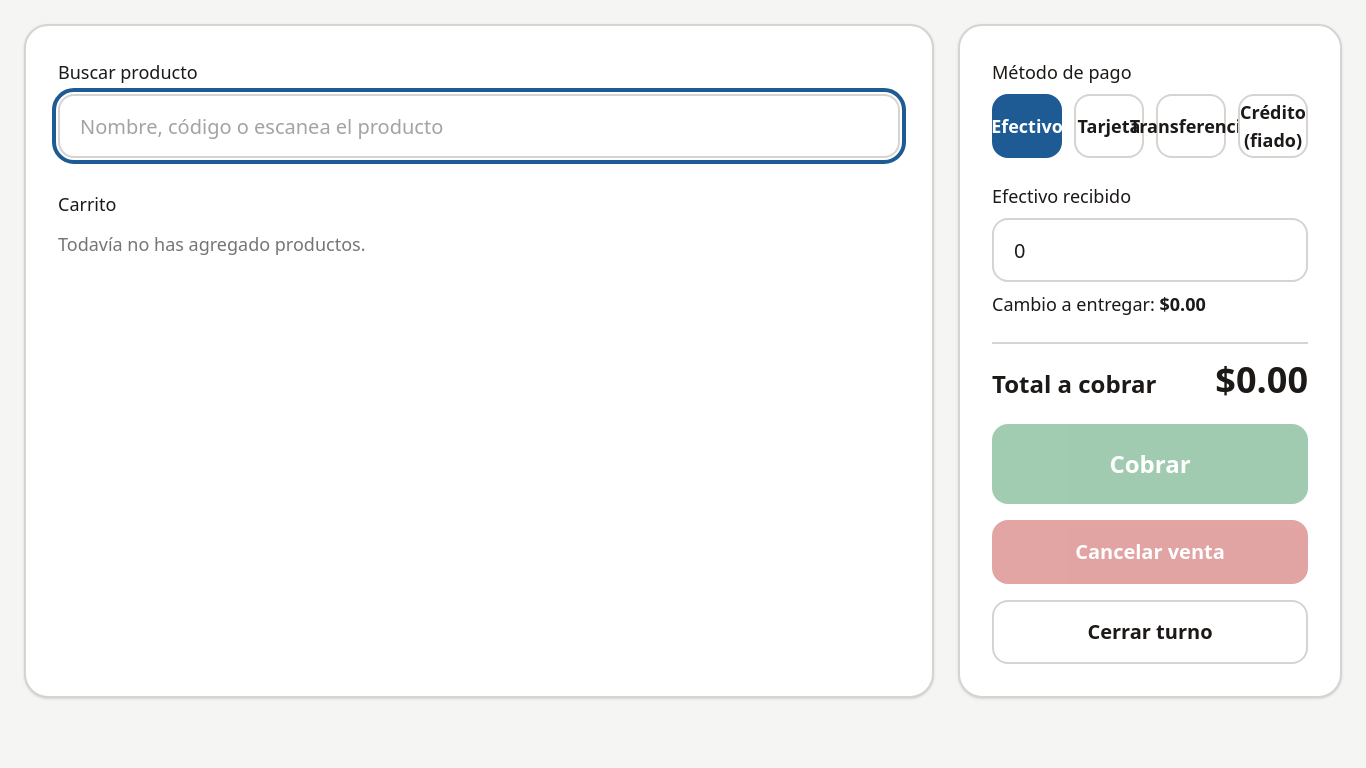
it: SaleScreen › agrega un producto encontrado en la búsqueda al carrito
The width and height of the screenshot is (1366, 768).
In the field labelled "Buscar producto": (479, 126) [58,94,900,158], type "refresco"
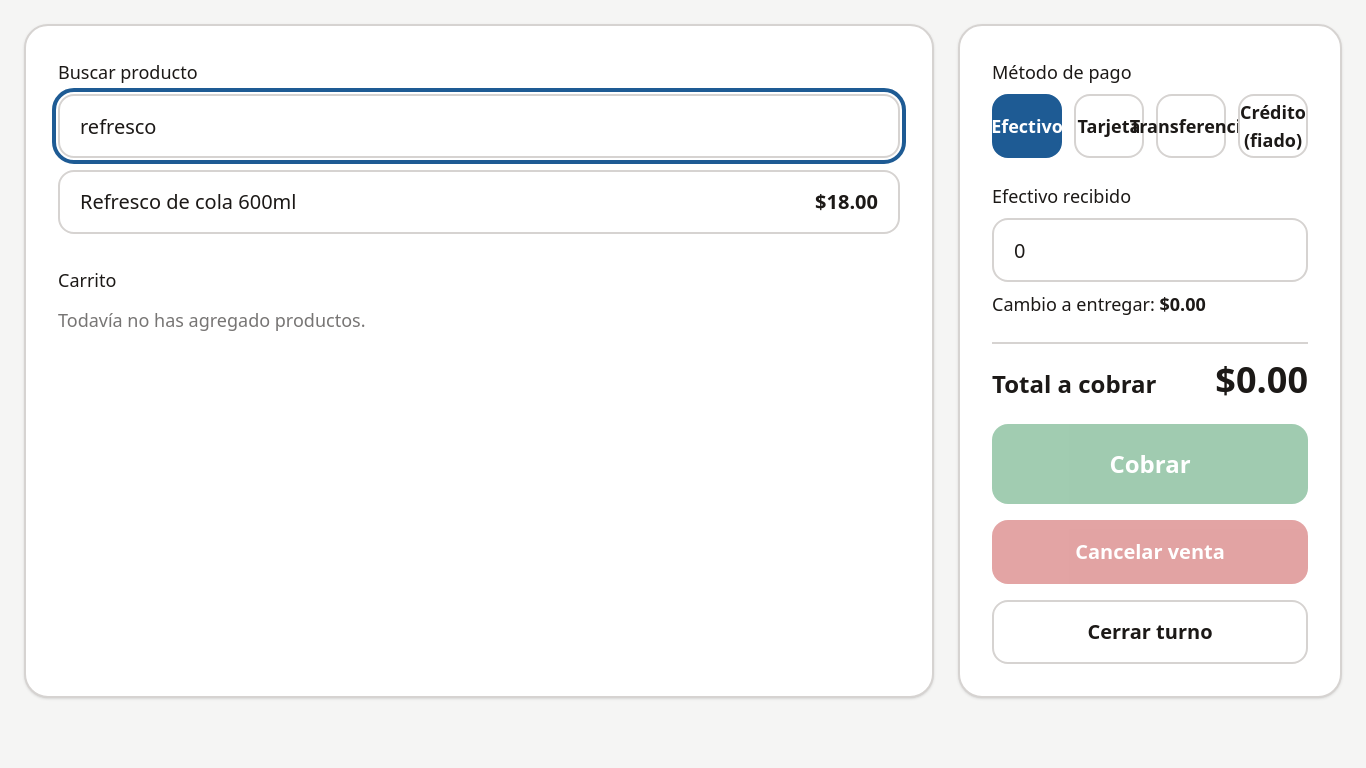
Click the button "Refresco de cola 600ml $18.00": (188, 202) [58,170,900,234]
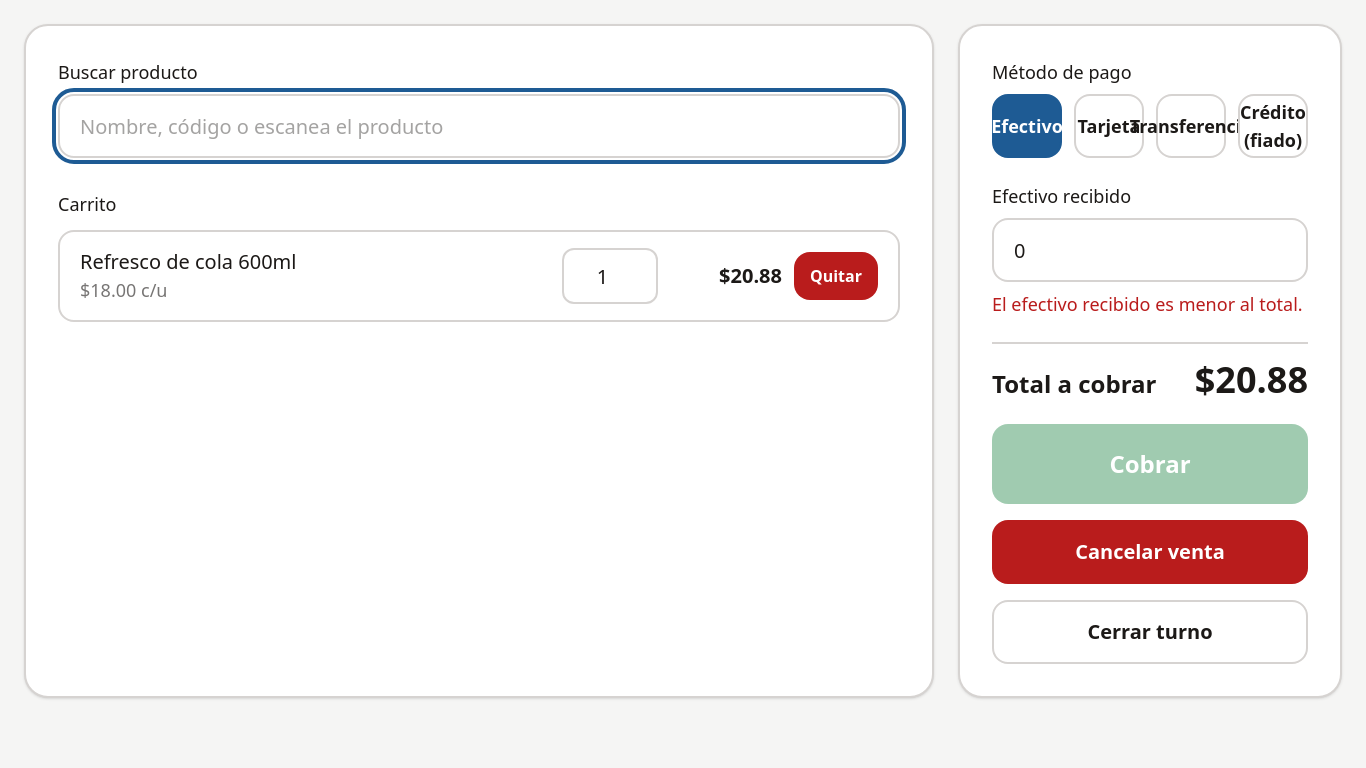
Now the text "Refresco de cola 600ml" is shown, box [80,248,296,275]
Now the text "Todavía no has agregado productos." is gone
